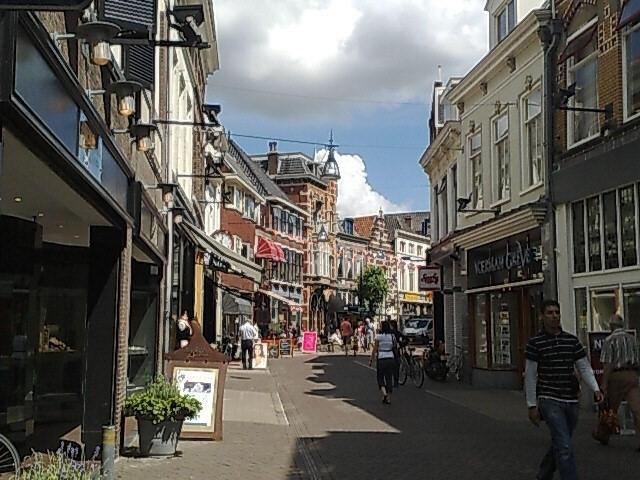non-vehicle: (395, 341, 424, 387), (0, 434, 19, 479)
